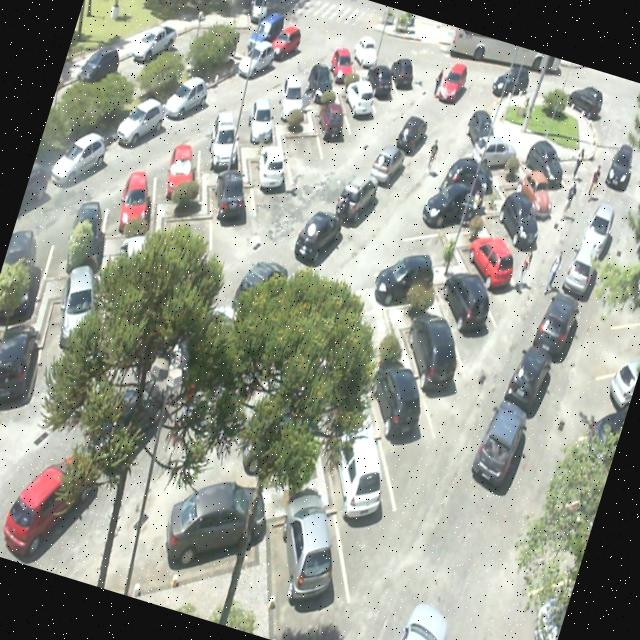empty: (391, 205, 467, 276), (276, 106, 334, 180)
occupied: (244, 476, 370, 638), (158, 462, 284, 602), (306, 396, 420, 542), (385, 289, 482, 408), (354, 355, 449, 468), (422, 258, 502, 354), (451, 214, 527, 302), (104, 153, 172, 248), (360, 236, 440, 316), (473, 183, 547, 265), (417, 168, 492, 238), (203, 157, 264, 240), (150, 132, 213, 212), (496, 161, 566, 232), (240, 130, 299, 204), (195, 106, 252, 182), (440, 145, 509, 203), (518, 138, 577, 199), (332, 64, 388, 128), (264, 64, 316, 131), (291, 50, 344, 114), (233, 84, 285, 148), (306, 86, 359, 148), (356, 50, 408, 108), (470, 126, 525, 174), (320, 38, 367, 94)
